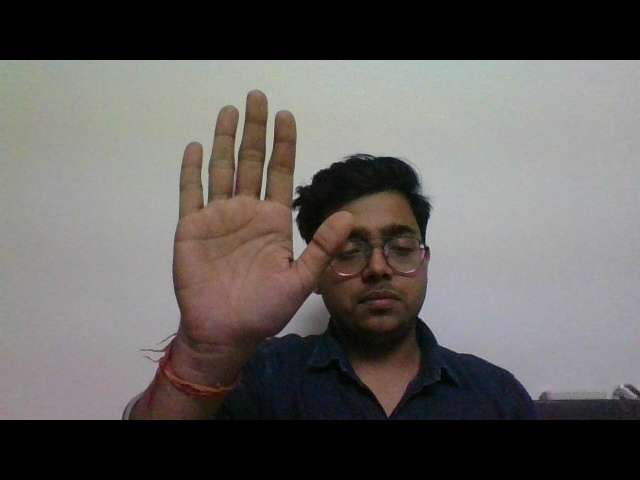Hello: (128, 86, 375, 391)
